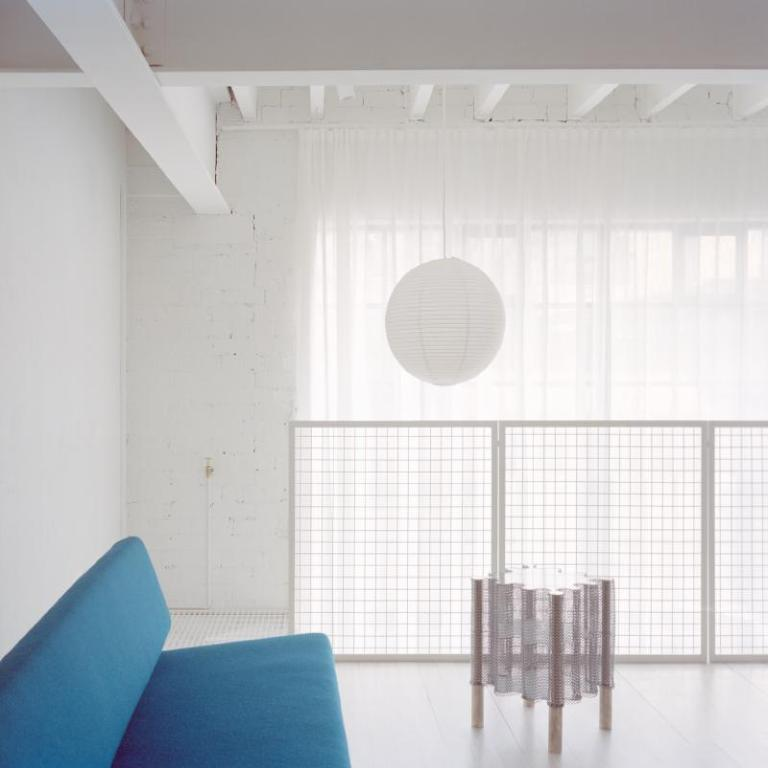white-walls: (10, 113, 271, 610)
